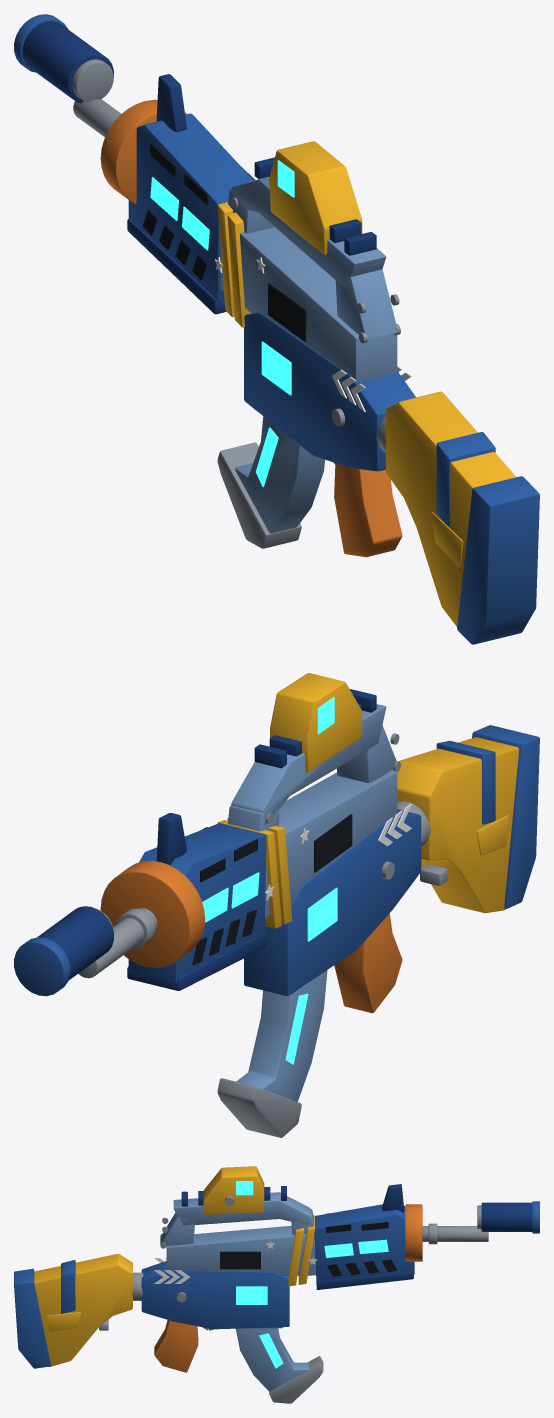
The model's file is fuzil_estelar.glb.
3 renders of one model, top to bottom at view 1: azimuth 30°, elevation 25°; view 2: azimuth 150°, elevation 25°; view 3: azimuth 270°, elevation 25°, orthographic. The views are drawn at different scales.
Visible parts, largest first — view 1: fuzil_estelar, reddot; view 2: fuzil_estelar, reddot; view 3: fuzil_estelar, reddot.
Part boxes in pixels (x1=…): fuzil_estelar: x1=14, y1=14, x2=539, y2=644; reddot: x1=270, y1=141, x2=362, y2=254; fuzil_estelar: x1=14, y1=689, x2=539, y2=1137; reddot: x1=270, y1=673, x2=362, y2=772; fuzil_estelar: x1=14, y1=1184, x2=539, y2=1403; reddot: x1=203, y1=1166, x2=264, y2=1214.
Bounding box in the file's own units: 0.104 × 0.4569 × 0.9538.
